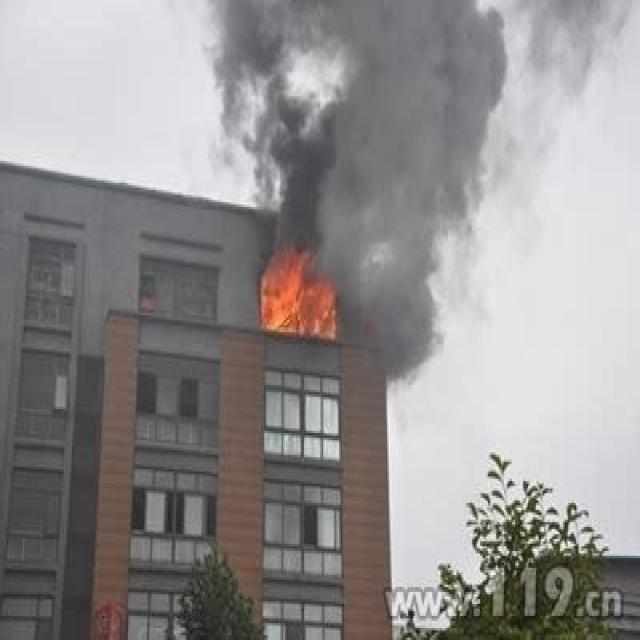Fire: (259, 255, 336, 342)
Smoke: (202, 2, 628, 385)
